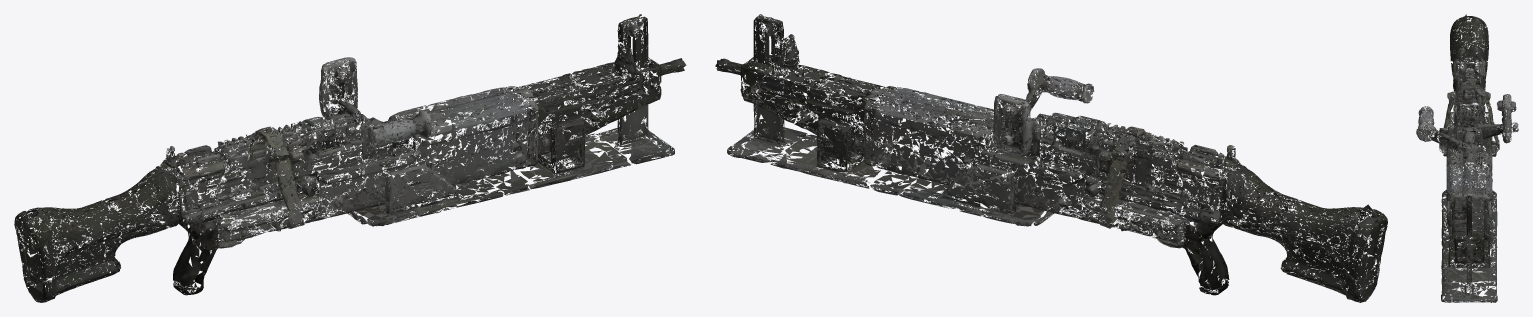
File: gun4.glb
The picture shows the model from 3 angles, left to right: view 1: azimuth 30°, elevation 25°; view 2: azimuth 150°, elevation 25°; view 3: azimuth 270°, elevation 25°; orthographic projection. The views are drawn at different scales.
Parts seen in each view (by area): view 1: tripo_node_91e7f1d6; view 2: tripo_node_91e7f1d6; view 3: tripo_node_91e7f1d6.
Boxes of the visible parts, <box> form: tripo_node_91e7f1d6: <box>14,14,686,302</box>; tripo_node_91e7f1d6: <box>715,14,1387,302</box>; tripo_node_91e7f1d6: <box>1416,14,1518,302</box>.
Size of the model in its own units: 0.9812 by 0.2401 by 0.1773.
1 material, 1 textured.
